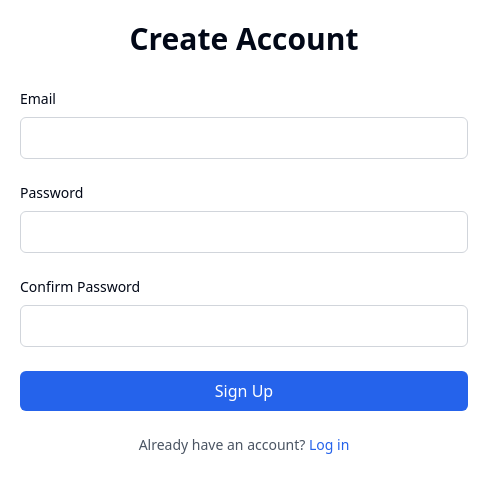
Test: RegisterPage › validates password strength
In the field labelled "Email": x=244, y=138 [20,117,468,159], type "test@example.com"
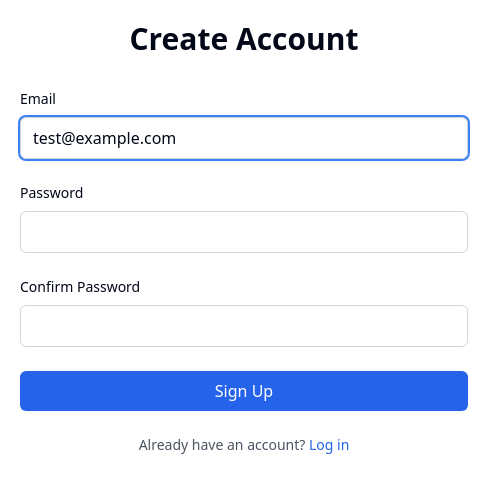
In the password field labelled "Password": x=244, y=232 [20,211,468,253], type "weak"
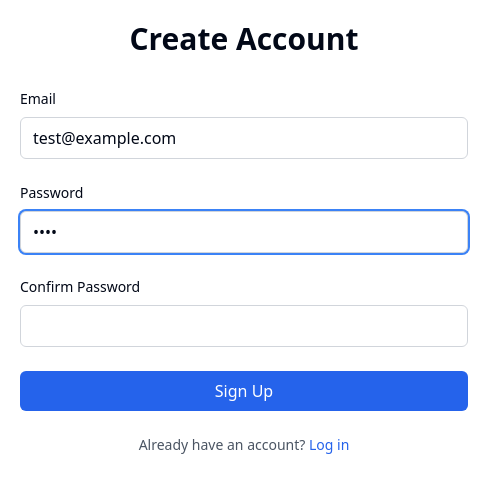
In the password field labelled "Confirm Password": x=244, y=326 [20,305,468,347], type "weak"
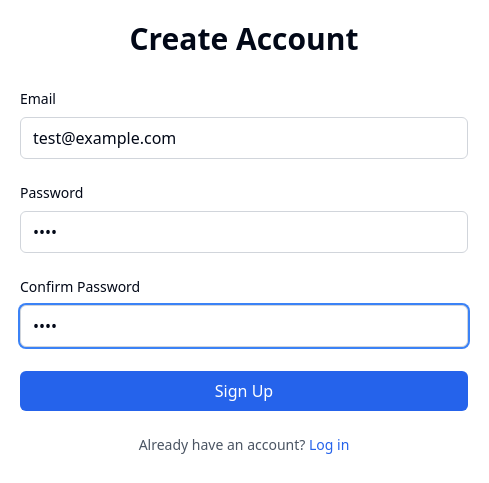
Click the button "Sign Up": x=244, y=391 [20,371,468,411]
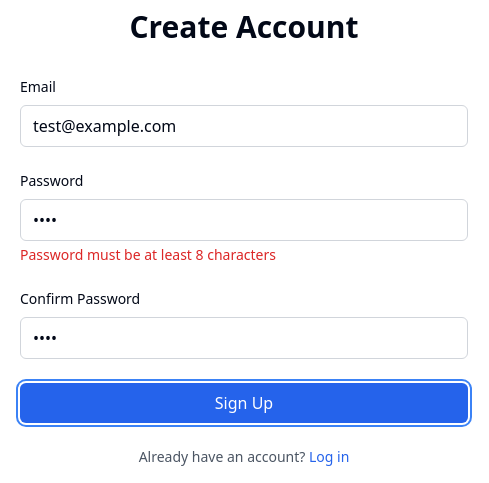
Check: the text "Password must be at least 8 characters" is shown, box [20,245,276,264]
